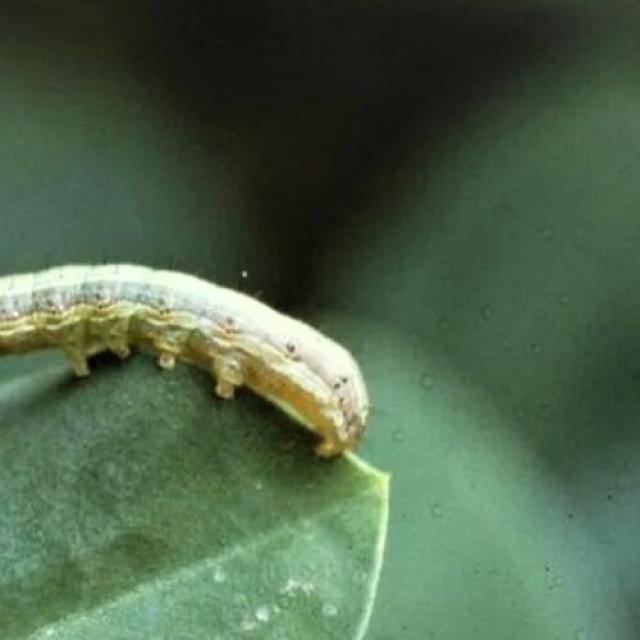armyworm: (0, 260, 371, 462)
